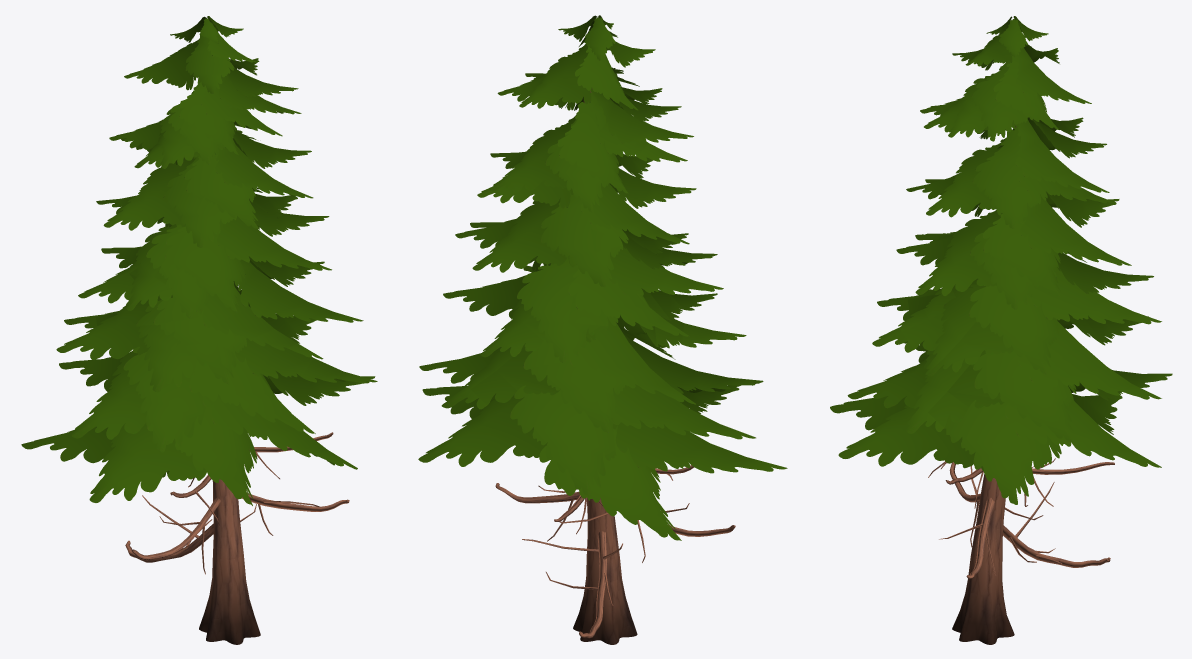
The model's file is Pine_4.glb.
3 views of the same model, side by side, from view 1: azimuth 30°, elevation 25°; view 2: azimuth 150°, elevation 25°; view 3: azimuth 270°, elevation 25° (orthographic). The views are drawn at different scales.
Visible parts, largest first — view 1: Pine_4; view 2: Pine_4; view 3: Pine_4.
Boxes of the visible parts, left/top/right/bottom form: Pine_4: left=21, top=16, right=377, bottom=644; Pine_4: left=418, top=15, right=787, bottom=644; Pine_4: left=830, top=16, right=1172, bottom=644.
Size of the model in its own units: 5.8 by 10.24 by 5.37.
2 materials, 2 textured.
